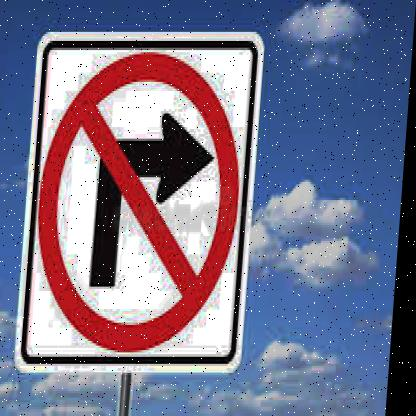No right turn: (33, 51, 255, 358)
